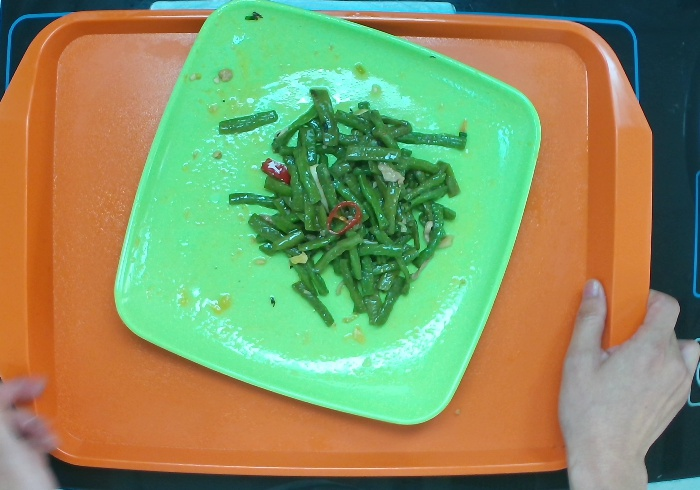ZNLD-Lv_Fang_Pan: (106, 1, 542, 425)
